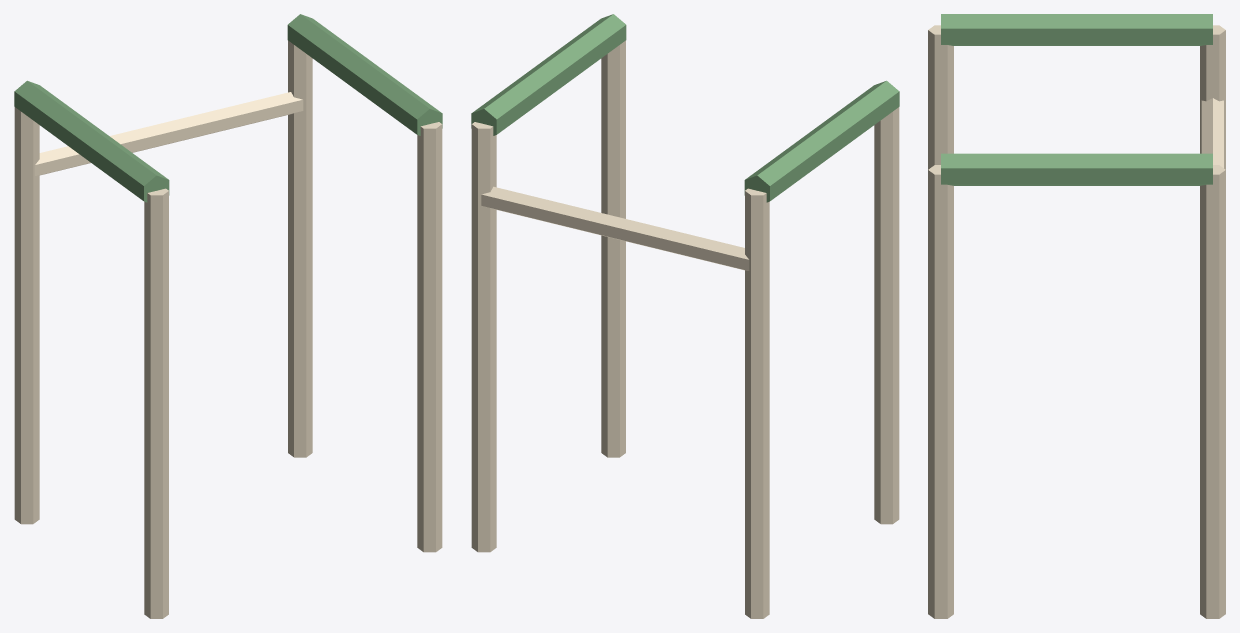
3 renders of one model, left to right at view 1: azimuth 30°, elevation 25°; view 2: azimuth 150°, elevation 25°; view 3: azimuth 270°, elevation 25°, orthographic. The views are drawn at different scales.
Visible parts, largest first — view 1: Leg.002, Leg, Leg.001, Leg.003, Hand grip, Hand grip.001, Front rail; view 2: Leg.003, Leg.001, Leg, Leg.002, Front rail, Hand grip, Hand grip.001; view 3: Leg.002, Leg.003, Hand grip.001, Hand grip, Leg, Leg.001, Front rail.
Boxes of the visible parts, <box> form: Leg.002: <box>417,122,442,552</box>; Leg: <box>144,188,168,618</box>; Leg.001: <box>14,107,39,524</box>; Leg.003: <box>288,40,312,457</box>; Hand grip: <box>14,80,169,202</box>; Hand grip.001: <box>287,14,442,135</box>; Front rail: <box>35,92,303,176</box>; Leg.003: <box>471,122,496,552</box>; Leg.001: <box>745,188,769,618</box>; Leg: <box>874,107,899,524</box>; Leg.002: <box>601,40,625,457</box>; Front rail: <box>481,186,749,270</box>; Hand grip: <box>744,80,899,202</box>; Hand grip.001: <box>471,14,626,135</box>; Leg.002: <box>928,165,953,618</box>; Leg.003: <box>1200,165,1225,618</box>; Hand grip.001: <box>941,153,1212,185</box>; Hand grip: <box>941,14,1212,45</box>; Leg: <box>928,25,953,169</box>; Leg.001: <box>1200,25,1225,169</box>; Front rail: <box>1201,98,1223,167</box>.
Size of the model in its own units: 0.612 by 0.86 by 0.504.
1 material, 1 textured.
